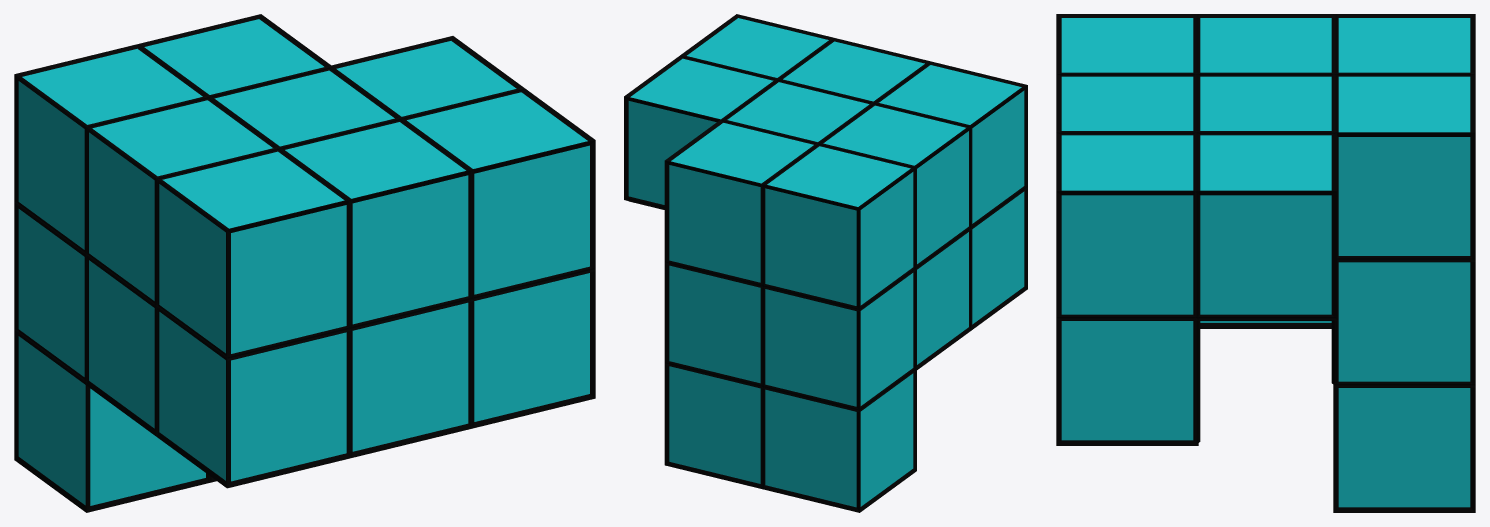
The picture shows the model from 3 angles, left to right: view 1: azimuth 30°, elevation 25°; view 2: azimuth 150°, elevation 25°; view 3: azimuth 270°, elevation 25°; orthographic projection. The views are drawn at different scales.
Parts seen in each view (by area): view 1: a:Mesh; view 2: a:Mesh; view 3: a:Mesh.
Boxes of the visible parts, left/top/right/bottom form: a:Mesh: left=14, top=14, right=595, bottom=512; a:Mesh: left=624, top=14, right=1027, bottom=512; a:Mesh: left=1056, top=14, right=1475, bottom=512.
Bounding box in the file's own units: 6.06 × 6.06 × 6.06.
